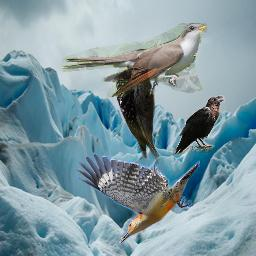Crow: (173, 95, 226, 155)
Cuckoo: (62, 23, 207, 97)
Woodpecker: (74, 152, 200, 246), (111, 41, 167, 165)
